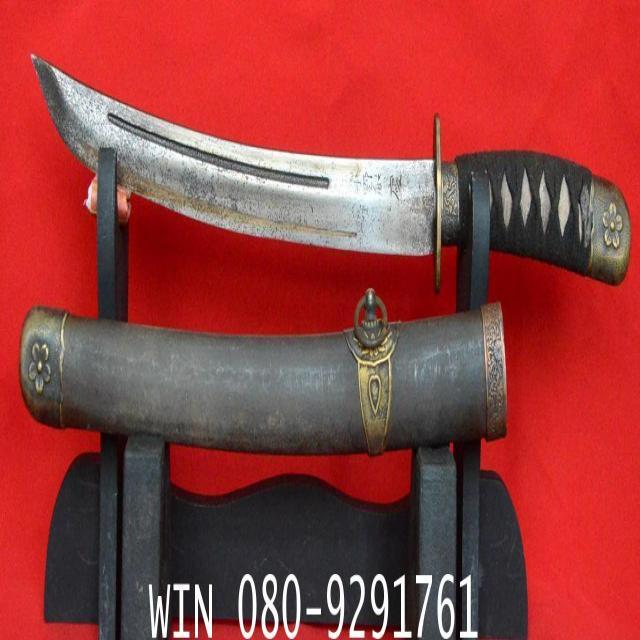short sword: (16, 39, 640, 314)
